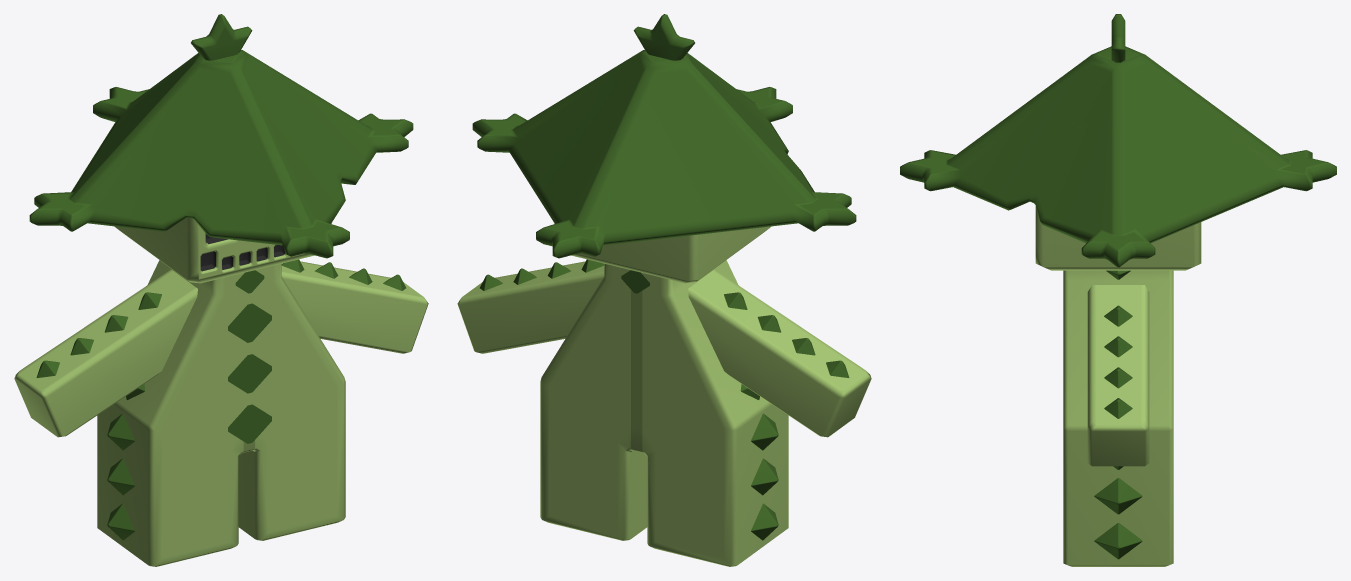
The picture shows the model from 3 angles, left to right: view 1: azimuth 30°, elevation 25°; view 2: azimuth 150°, elevation 25°; view 3: azimuth 270°, elevation 25°; orthographic projection.
Parts seen in each view (by area): view 1: model; view 2: model; view 3: model.
Boxes of the visible parts, left/top/right/bottom form: model: left=14, top=14, right=428, bottom=566; model: left=457, top=14, right=871, bottom=566; model: left=900, top=14, right=1336, bottom=566.
Size of the model in its own units: 2.4 by 3.03 by 2.37.
